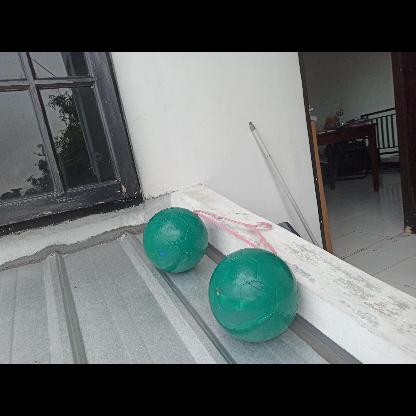green_ball: (204, 248, 296, 340), (142, 206, 206, 270)
